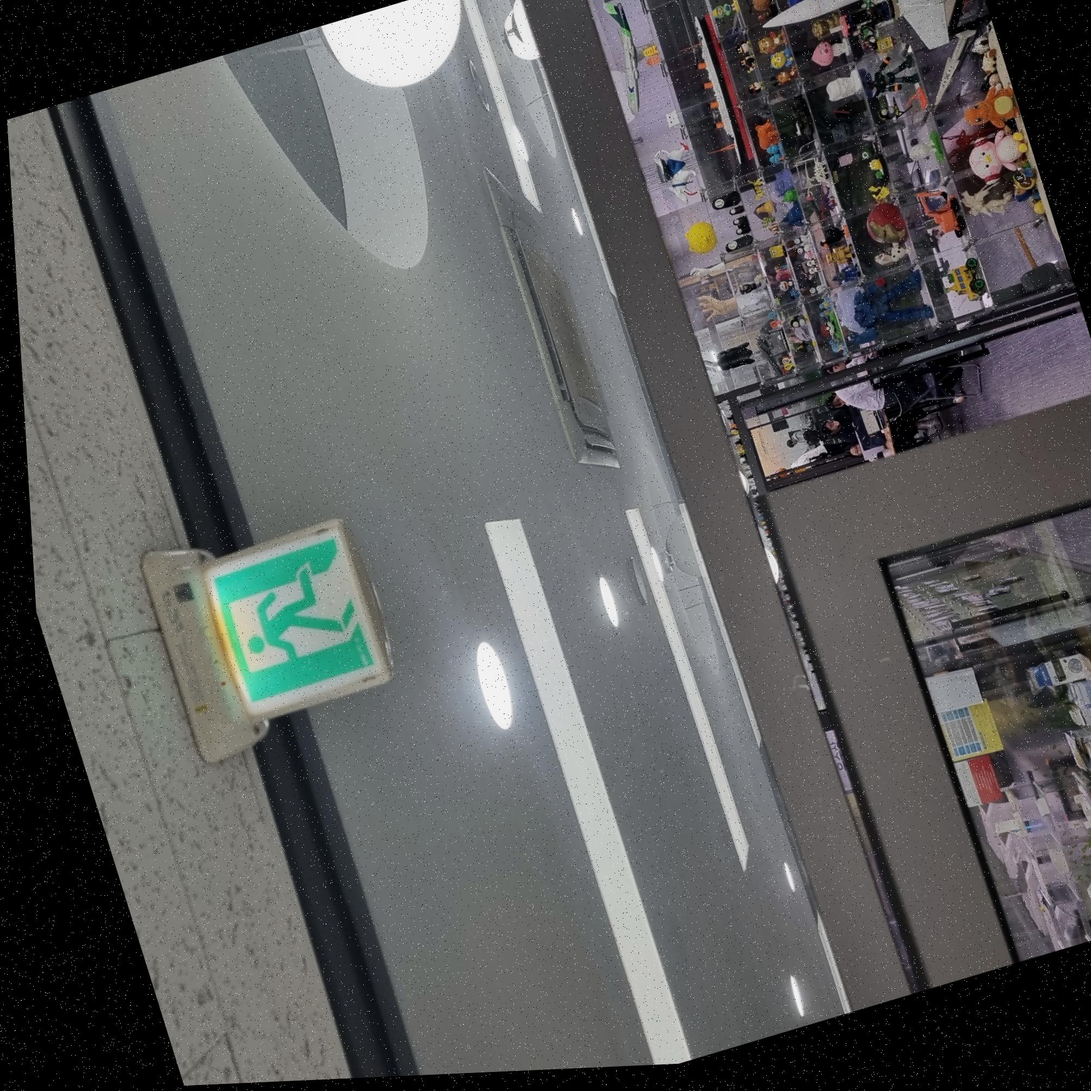emergency_exit: (141, 516, 395, 764), (200, 517, 394, 722)
